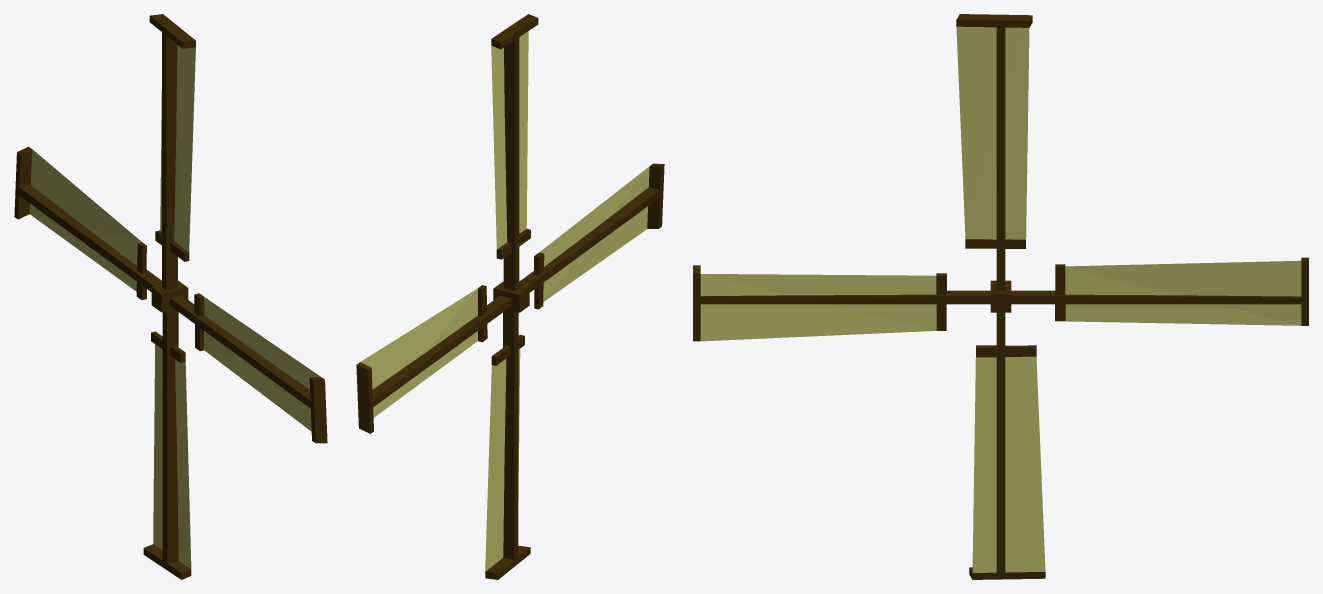
The model's file is mill_sail.obj.
3 renders of one model, left to right at view 1: azimuth 30°, elevation 25°; view 2: azimuth 150°, elevation 25°; view 3: azimuth 270°, elevation 25°, orthographic. The views are drawn at different scales.
Parts seen in each view (by area): view 1: Sails; view 2: Sails; view 3: Sails.
Part boxes in pixels (x1,y1,x2,y2): Sails: (14,14,327,579); Sails: (356,14,664,579); Sails: (693,14,1308,579).
Bounding box in the file's own units: 0.5135 × 9.89 × 9.89.
